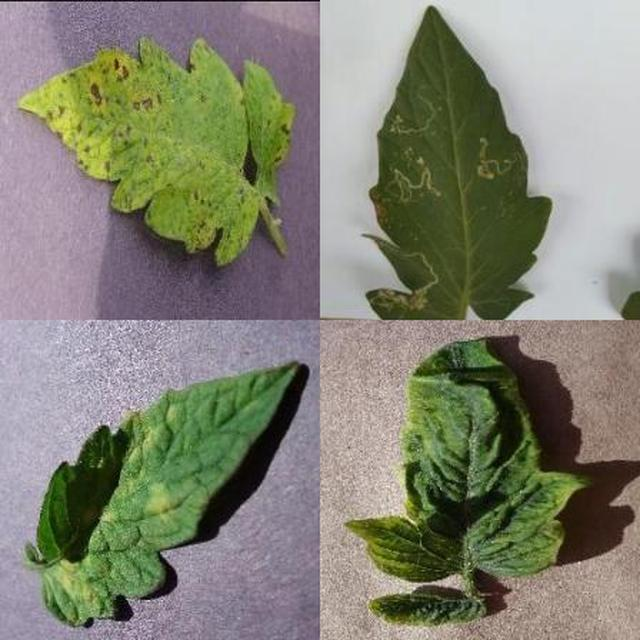Septoria Leaf: (162, 63, 640, 640)
